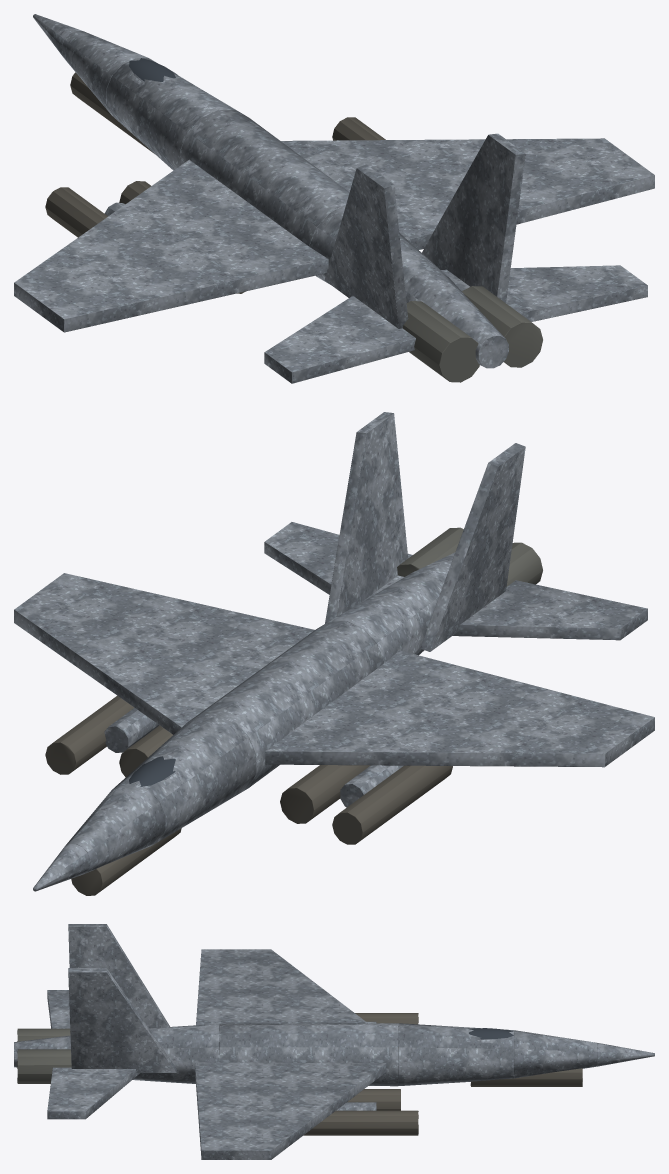
Rendered from ewa_e2_us_electronic_LOD1.glb.
3 views of the same model, one above another, from view 1: azimuth 30°, elevation 25°; view 2: azimuth 150°, elevation 25°; view 3: azimuth 270°, elevation 25° (orthographic). The views are drawn at different scales.
Parts seen in each view (by area): view 1: ewa_e2_us_electronic_LOD1_body, ewa_e2_us_electronic_LOD1_gun, ewa_e2_us_electronic_LOD1_deck, ewa_e2_us_electronic_LOD1_glass; view 2: ewa_e2_us_electronic_LOD1_body, ewa_e2_us_electronic_LOD1_deck, ewa_e2_us_electronic_LOD1_gun, ewa_e2_us_electronic_LOD1_glass; view 3: ewa_e2_us_electronic_LOD1_body, ewa_e2_us_electronic_LOD1_deck, ewa_e2_us_electronic_LOD1_gun, ewa_e2_us_electronic_LOD1_glass.
Boxes of the visible parts, x1,y1,x2,y2 form: ewa_e2_us_electronic_LOD1_body: (14, 14, 654, 383); ewa_e2_us_electronic_LOD1_gun: (402, 286, 542, 382); ewa_e2_us_electronic_LOD1_deck: (45, 72, 385, 293); ewa_e2_us_electronic_LOD1_glass: (129, 58, 175, 81); ewa_e2_us_electronic_LOD1_body: (14, 412, 654, 891); ewa_e2_us_electronic_LOD1_deck: (45, 695, 452, 895); ewa_e2_us_electronic_LOD1_gun: (397, 527, 542, 586); ewa_e2_us_electronic_LOD1_glass: (129, 756, 175, 786); ewa_e2_us_electronic_LOD1_body: (14, 924, 654, 1159); ewa_e2_us_electronic_LOD1_deck: (303, 1013, 582, 1135); ewa_e2_us_electronic_LOD1_gun: (17, 1028, 71, 1083); ewa_e2_us_electronic_LOD1_glass: (468, 1028, 513, 1039).
Size of the model in its own units: 13.6 by 4.44 by 18.3.
Materials: 4 (1 with a texture image).
